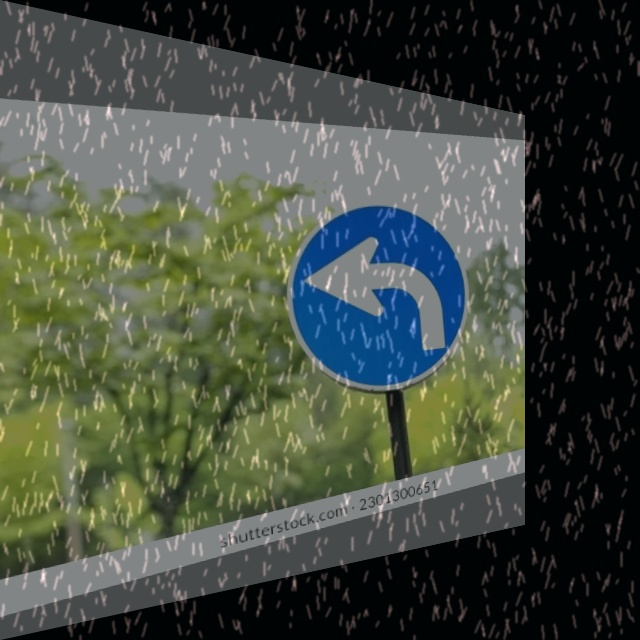Compulsory_Turn_Left_Ahead: (273, 181, 474, 407)
